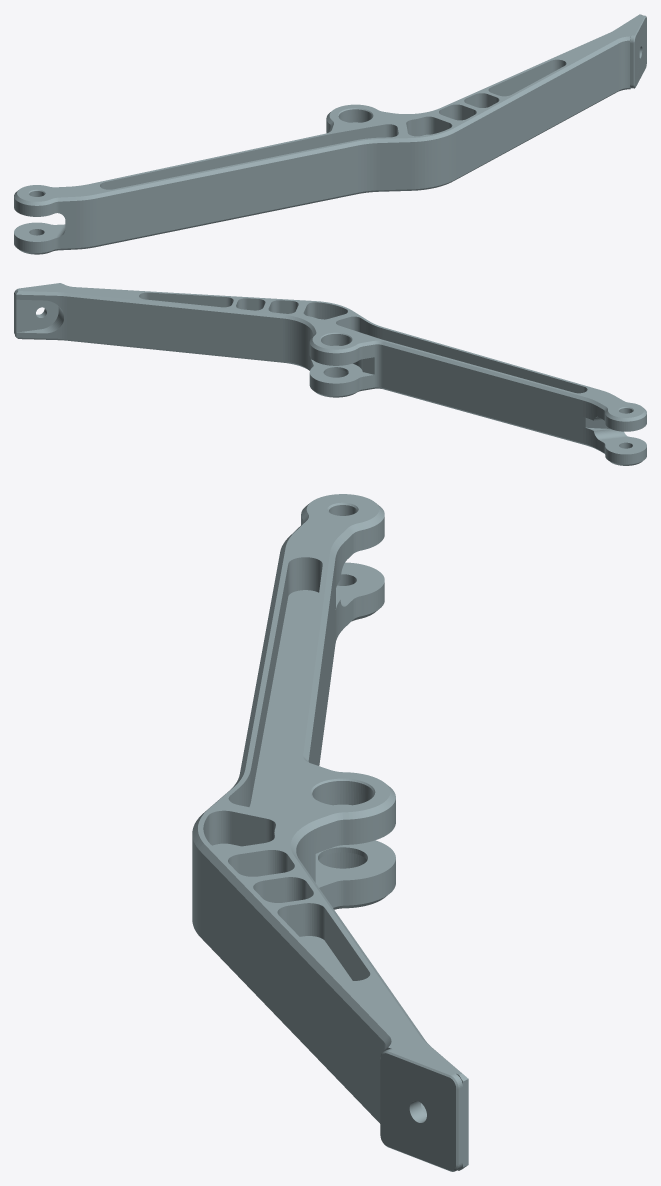
Rendered from lower_leg_long_3.dae.
3 renders of one model, top to bottom at view 1: azimuth 30°, elevation 25°; view 2: azimuth 150°, elevation 25°; view 3: azimuth 270°, elevation 25°, orthographic. The views are drawn at different scales.
Parts seen in each view (by area): view 1: 5e4fd20c65a6a215cb0b3e15; view 2: 5e4fd20c65a6a215cb0b3e15; view 3: 5e4fd20c65a6a215cb0b3e15.
Part boxes in pixels (bbox=[...]): 5e4fd20c65a6a215cb0b3e15: bbox=[14, 14, 646, 254]; 5e4fd20c65a6a215cb0b3e15: bbox=[14, 283, 646, 465]; 5e4fd20c65a6a215cb0b3e15: bbox=[192, 494, 468, 1171].
Bounding box in the file's own units: 0.249 × 0.0496 × 0.019.
